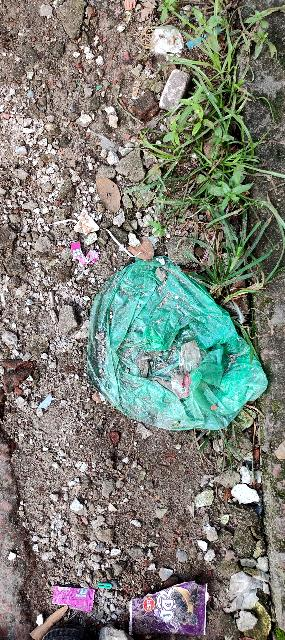polythene: (81, 251, 273, 436)
